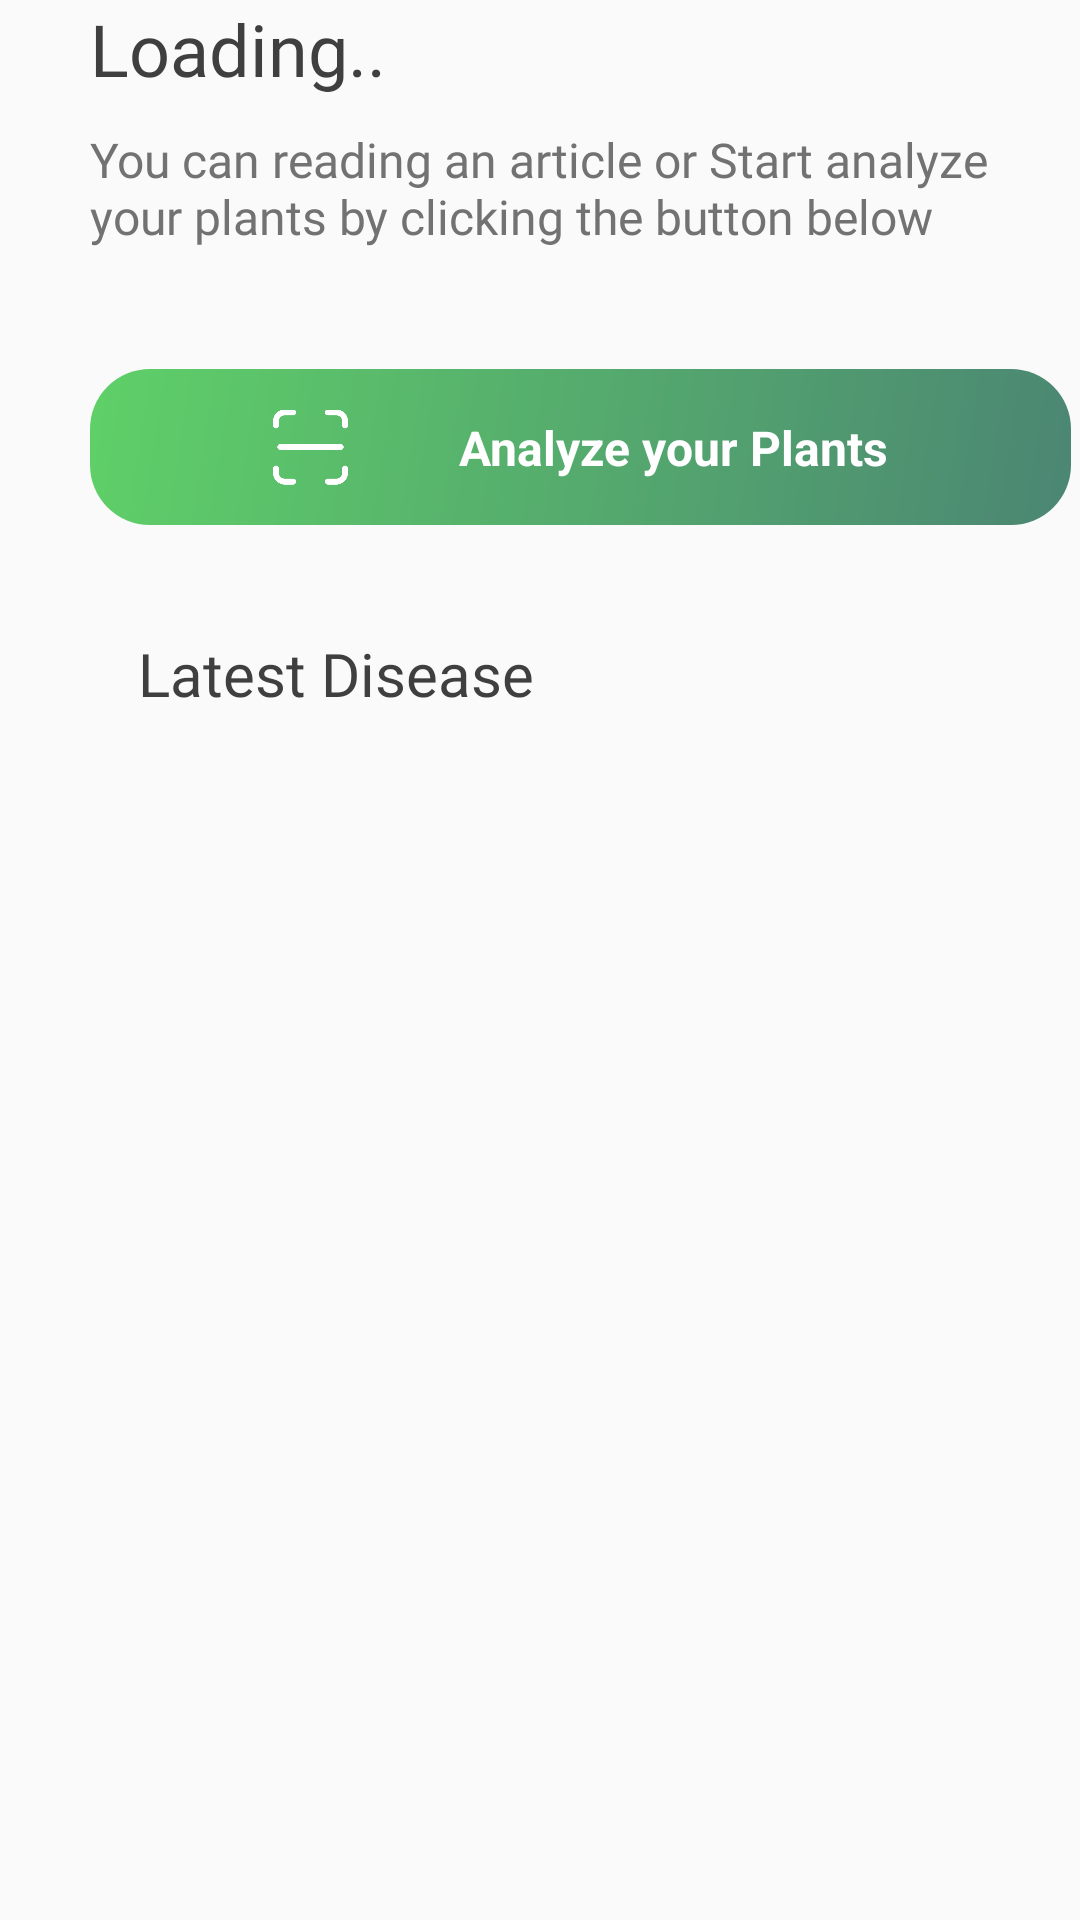

Screen size 1080px x 1920px. Icon name, then its center in pixels as [x,y]:
scan: [310,447]
